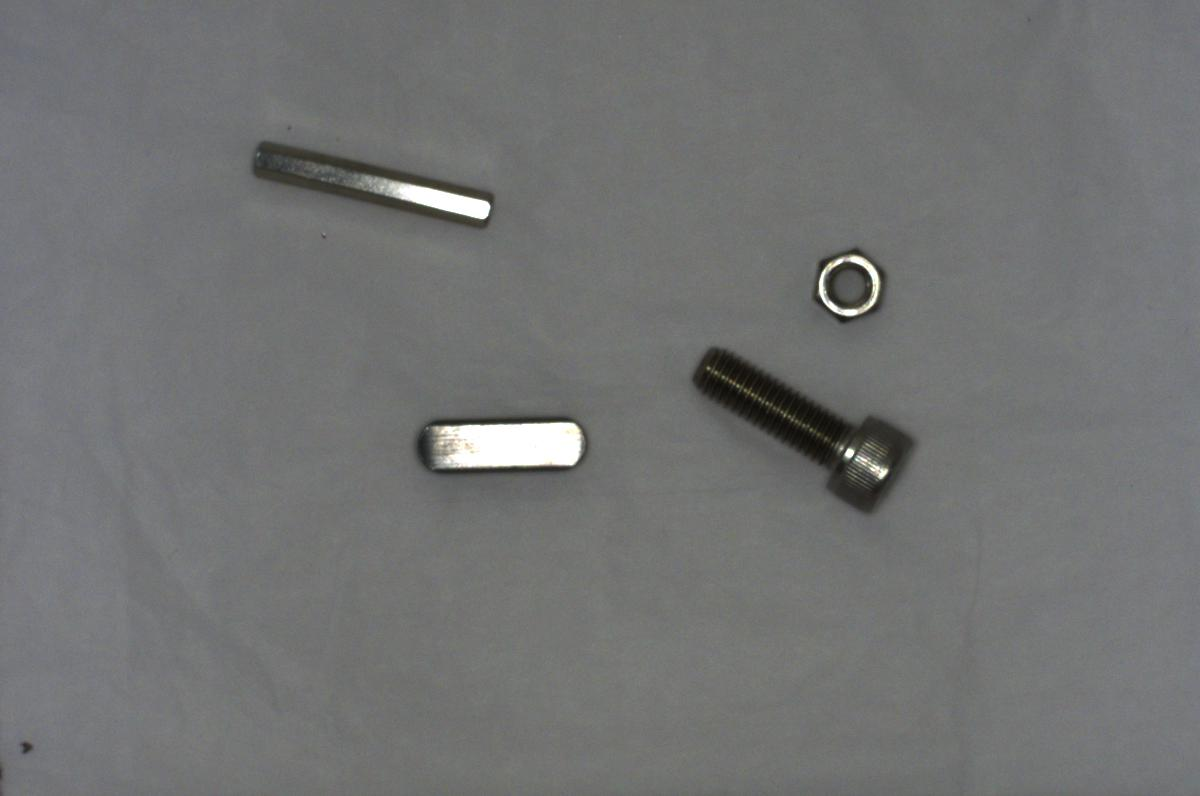Double hexagonal column: (237, 130, 497, 239)
Hexagon nut: (808, 246, 891, 325)
Hexagon screw: (681, 335, 924, 513)
Keybar: (414, 406, 590, 476)
